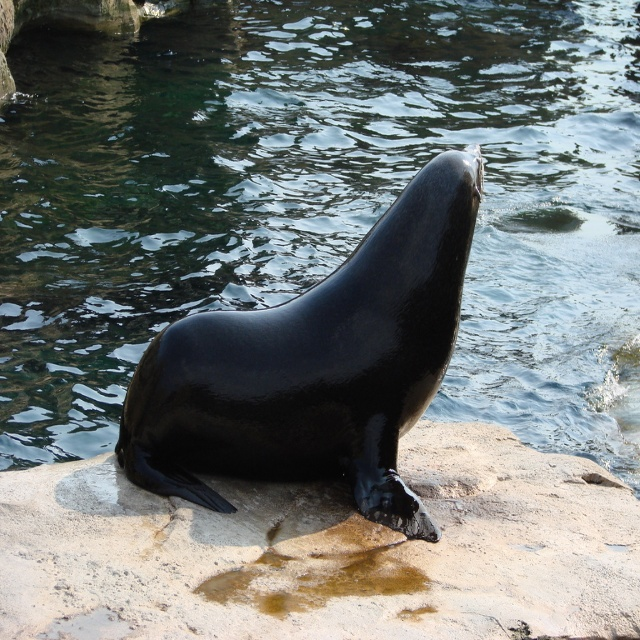Sea lion: (118, 139, 484, 542)
